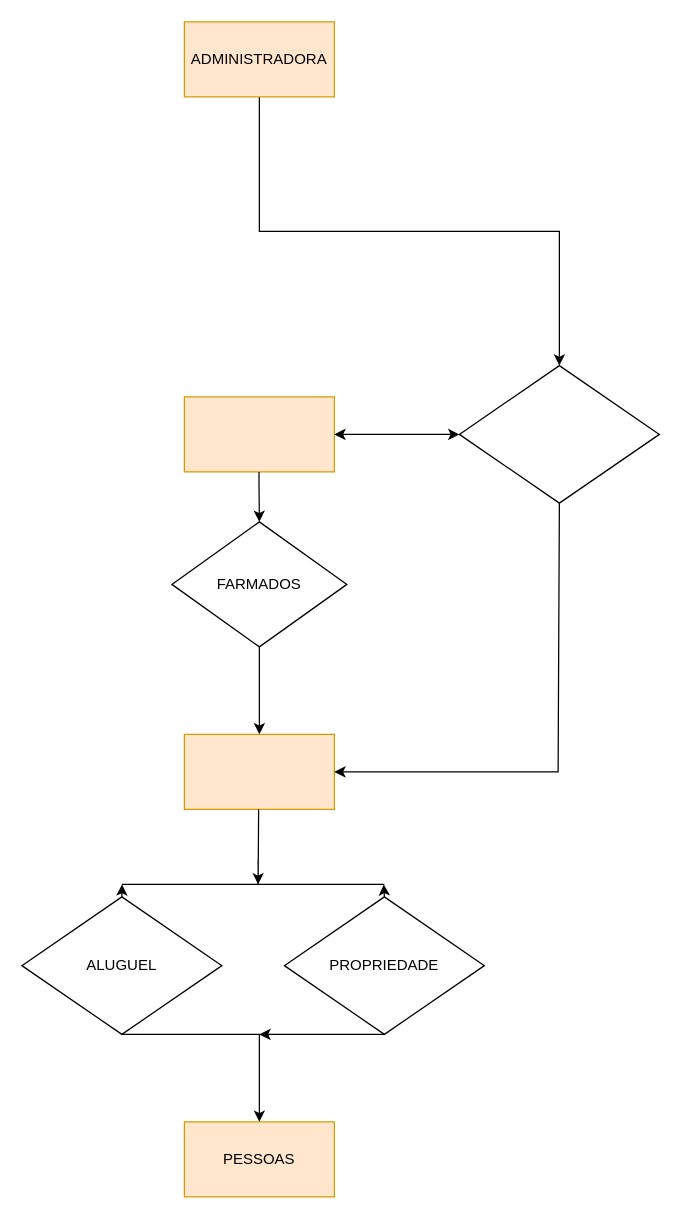
The diagram is 681 pixels wide and 1219 high, and some of its shapes have lost their labels. Each missing label, with the centre of its shape:
ADMINISTRA: point 558,433
CONDOMINIO: point 258,434
UNIDADES CONDOMINIAS: point 258,771
